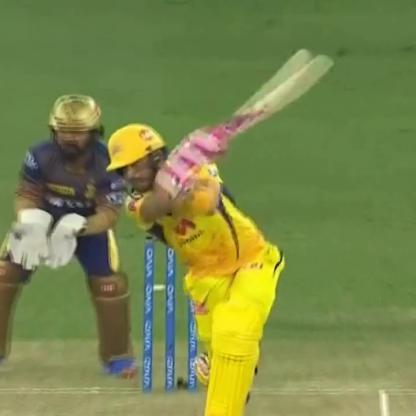bat: (156, 45, 334, 172)
